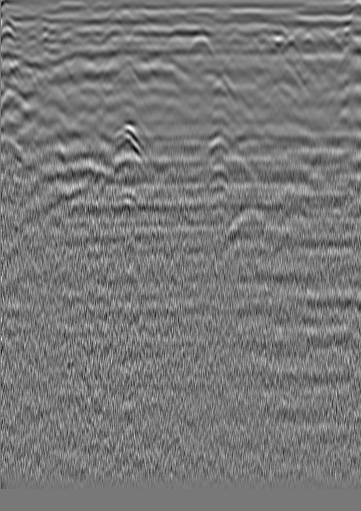가스: (104, 118, 146, 161)
상수: (23, 29, 43, 49)
오수: (294, 31, 314, 51)
우수: (163, 27, 183, 47)
